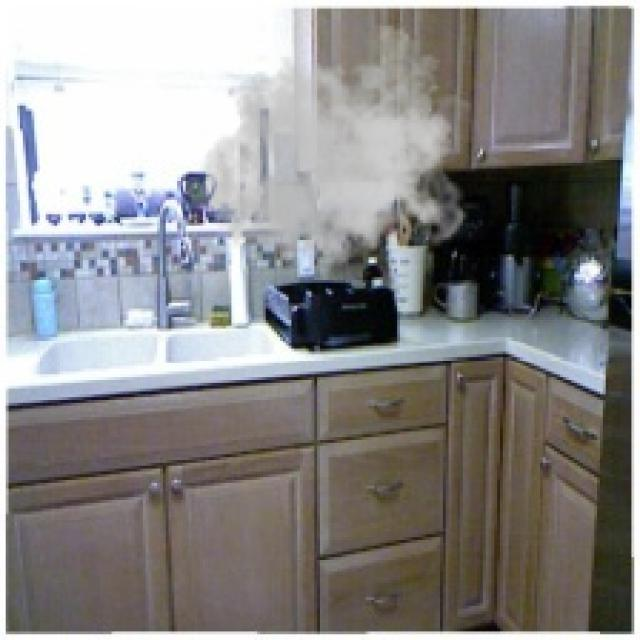Smoke: (199, 25, 472, 292)
